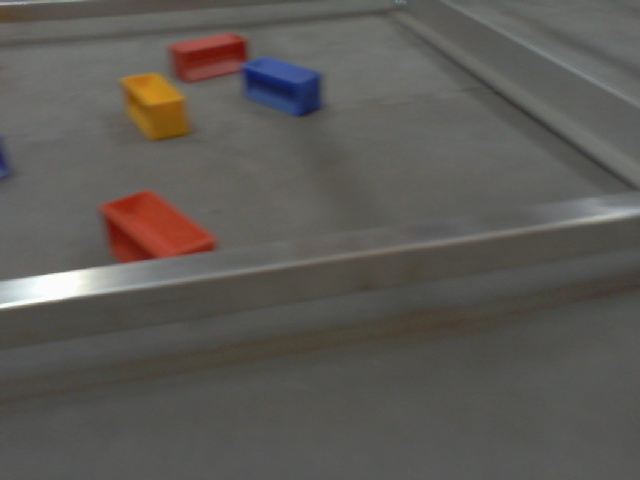BlueSample: (239, 53, 327, 122)
RedSample: (97, 187, 219, 273), (166, 31, 249, 85)
YellowSample: (120, 67, 192, 143)
